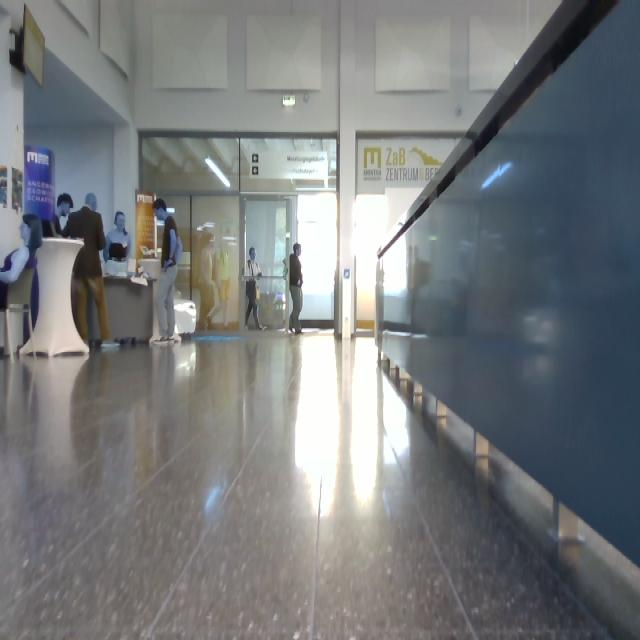banner: (25, 146, 54, 222), (136, 192, 157, 268)
chair: (5, 265, 37, 357)
door: (244, 201, 290, 329), (298, 193, 337, 326)
light bulb: (205, 157, 231, 188), (283, 96, 295, 106)
person: (62, 197, 109, 344), (1, 214, 43, 310), (157, 200, 183, 341), (246, 248, 263, 329), (104, 212, 130, 261), (290, 244, 303, 334), (54, 194, 74, 236)
staircase: (377, 1, 640, 640)
table: (22, 238, 89, 357)
tiled floor: (1, 332, 640, 640)
